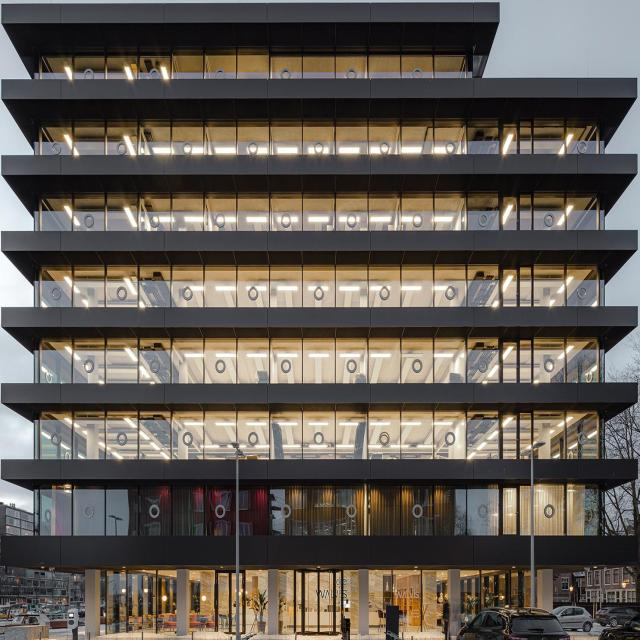door: (294, 567, 344, 636), (212, 569, 248, 633), (499, 263, 535, 307), (499, 413, 535, 457), (499, 338, 534, 381), (498, 118, 534, 154), (499, 194, 534, 230), (499, 483, 521, 536)
window: (32, 488, 604, 535), (35, 336, 603, 383), (38, 411, 602, 458), (38, 261, 606, 305), (39, 193, 604, 229), (38, 116, 601, 152), (37, 49, 466, 80), (280, 568, 358, 633), (369, 571, 447, 635), (106, 569, 178, 634), (195, 569, 267, 634), (461, 572, 537, 614)
